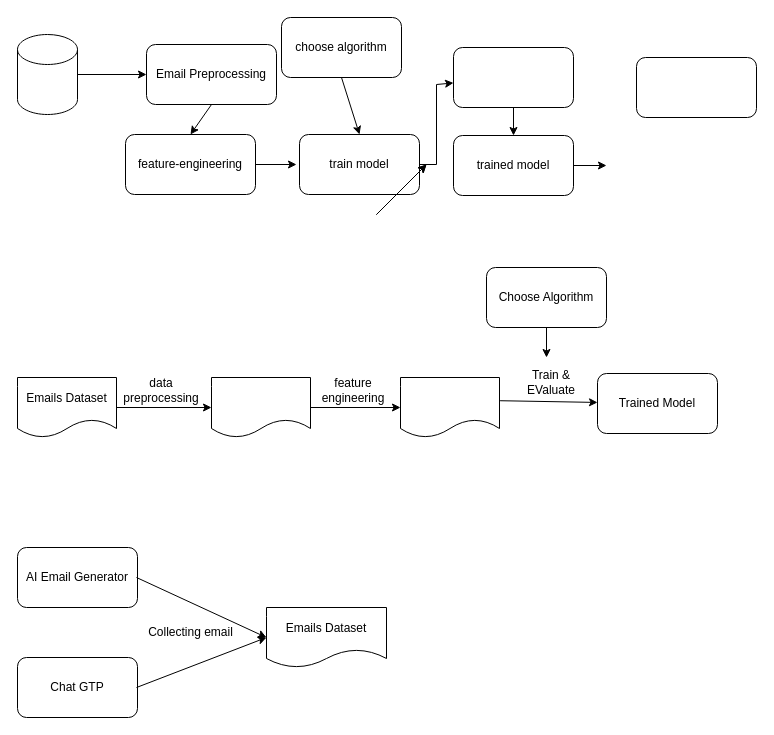
Image size: 774x735. Some labels were removed from this diagram. Here are the shapes that lost their labels. From the top down, the centre of each, then its label:
At [47,74]: "Email Dataset".
At [513,77]: "evaluate model".
At [696,87]: "Deploy Model".
At [260,407]: "Clean Emails Dataset".
At [450,407]: "Digitalized Emails Dataset".
